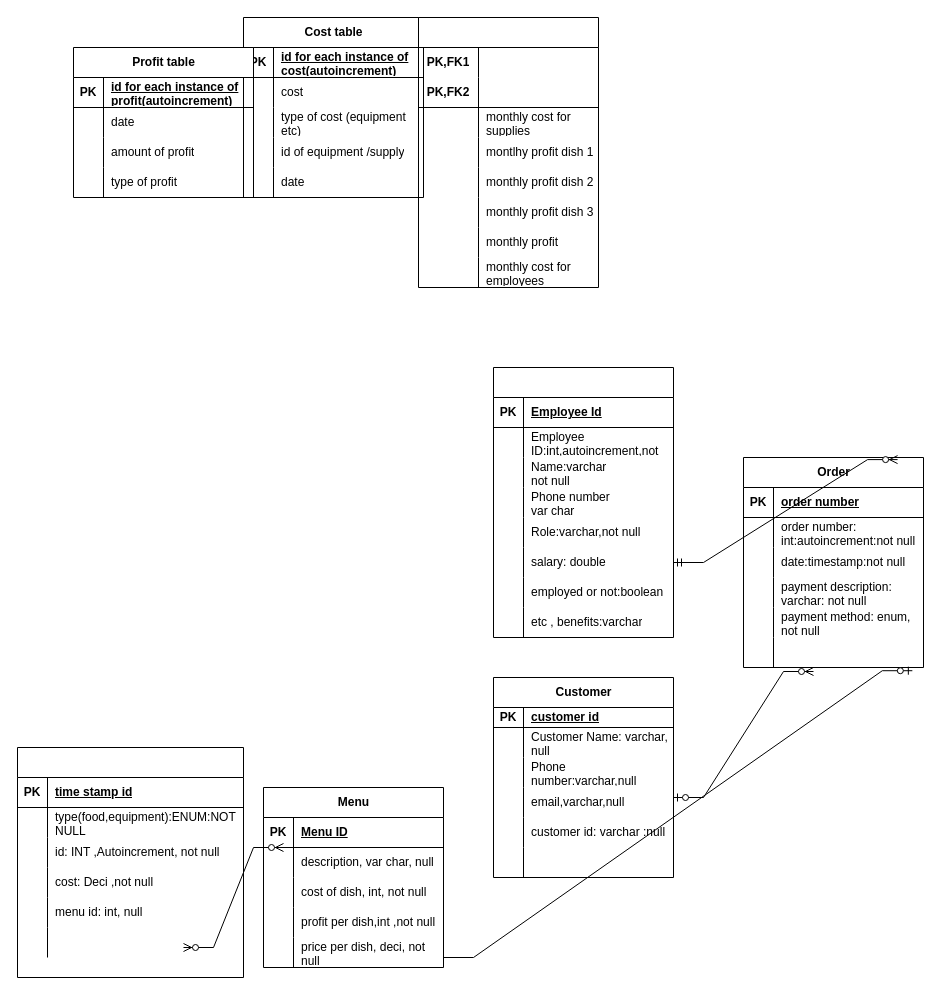
This 941x995 diagram has some shape labels left out. Each missing label, with the box of its shape:
Employees: (492, 366, 674, 638)
Revenue(profit+cost): (418, 16, 598, 288)
Supplies Table: (16, 746, 244, 978)
